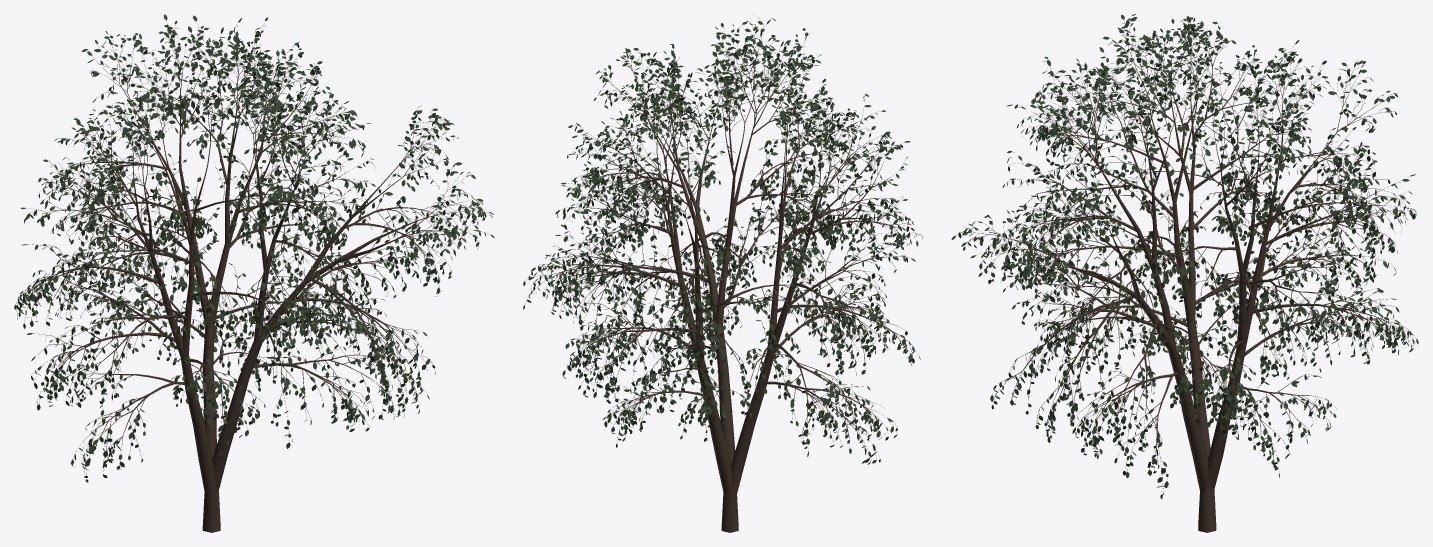
Rendered from Tree_13.fbx.
3 views of the same model, side by side, from view 1: azimuth 30°, elevation 25°; view 2: azimuth 150°, elevation 25°; view 3: azimuth 270°, elevation 25° (orthographic). The views are drawn at different scales.
Parts seen in each view (by area): view 1: leaves_13, Tree_13; view 2: leaves_13, Tree_13; view 3: leaves_13, Tree_13.
Boxes of the visible parts, x1=… form: leaves_13: x1=14, y1=14, x2=494, y2=482; Tree_13: x1=16, y1=24, x2=488, y2=532; leaves_13: x1=523, y1=18, x2=922, y2=464; Tree_13: x1=526, y1=17, x2=920, y2=532; leaves_13: x1=951, y1=14, x2=1418, y2=498; Tree_13: x1=957, y1=21, x2=1416, y2=532.
Bounding box in the file's own units: 1413 × 1693 × 1440.
